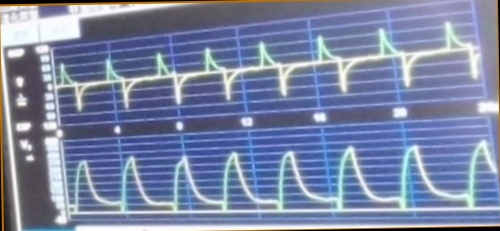Flow: (58, 21, 479, 112)
Leakage Volume: (70, 139, 494, 221)
